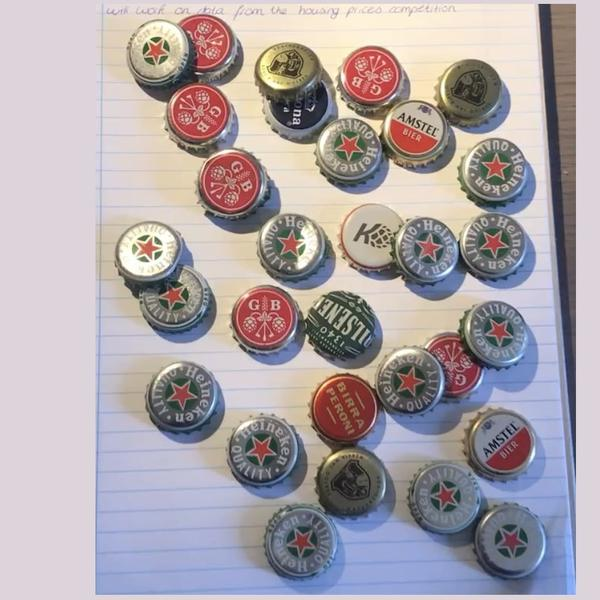amstel: (466, 406, 536, 485), (382, 97, 450, 170)
brand: (304, 288, 376, 360)
corona: (264, 94, 327, 141)
grolsch: (195, 149, 269, 222), (230, 284, 301, 359), (166, 81, 232, 153), (339, 44, 403, 109), (183, 11, 239, 80), (429, 332, 481, 399)
heineken: (470, 501, 551, 583), (222, 410, 301, 491), (263, 501, 339, 585), (408, 459, 481, 538), (459, 297, 533, 372), (371, 346, 444, 420), (458, 211, 531, 283), (147, 361, 217, 435), (139, 263, 210, 335), (460, 136, 529, 209), (258, 213, 325, 285), (113, 216, 182, 283), (394, 215, 460, 285), (314, 118, 380, 185), (127, 17, 187, 85)
hertogjan: (312, 446, 390, 523), (436, 58, 504, 128), (255, 42, 319, 100)
kornuit: (338, 203, 404, 278)
